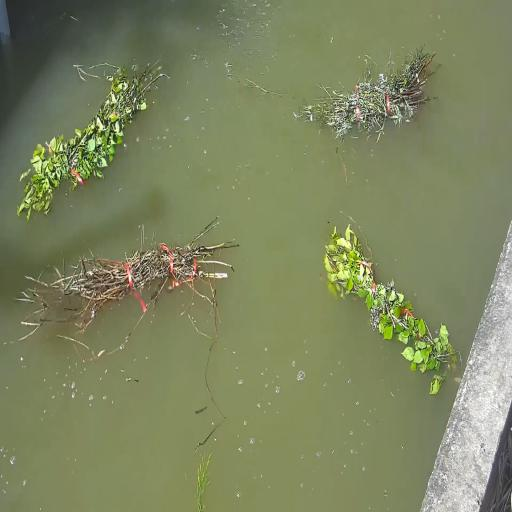twig: (17, 218, 238, 340), (17, 67, 164, 219), (324, 224, 456, 372), (298, 46, 435, 139)
